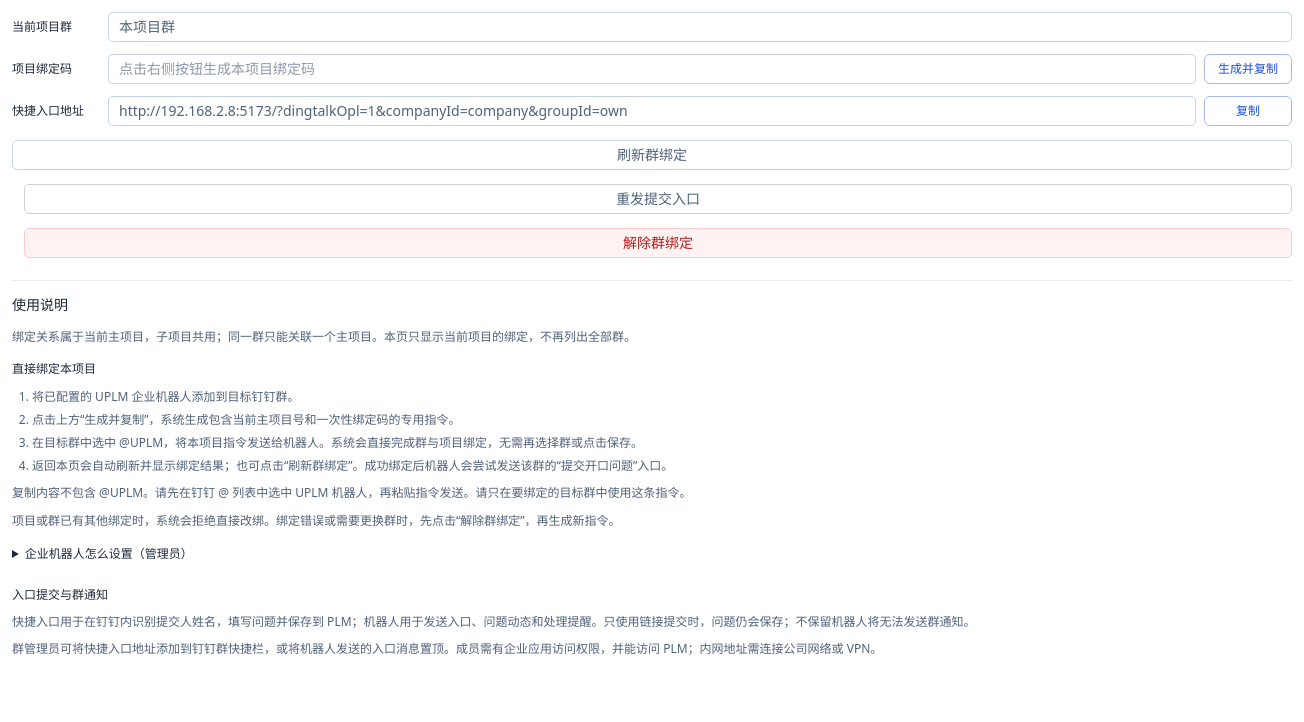
generates and copies a project-scoped one-time command without saving a binding
Click the button with aria-label "生成并复制项目绑定码" at (1248, 69), box [1204, 54, 1292, 84]
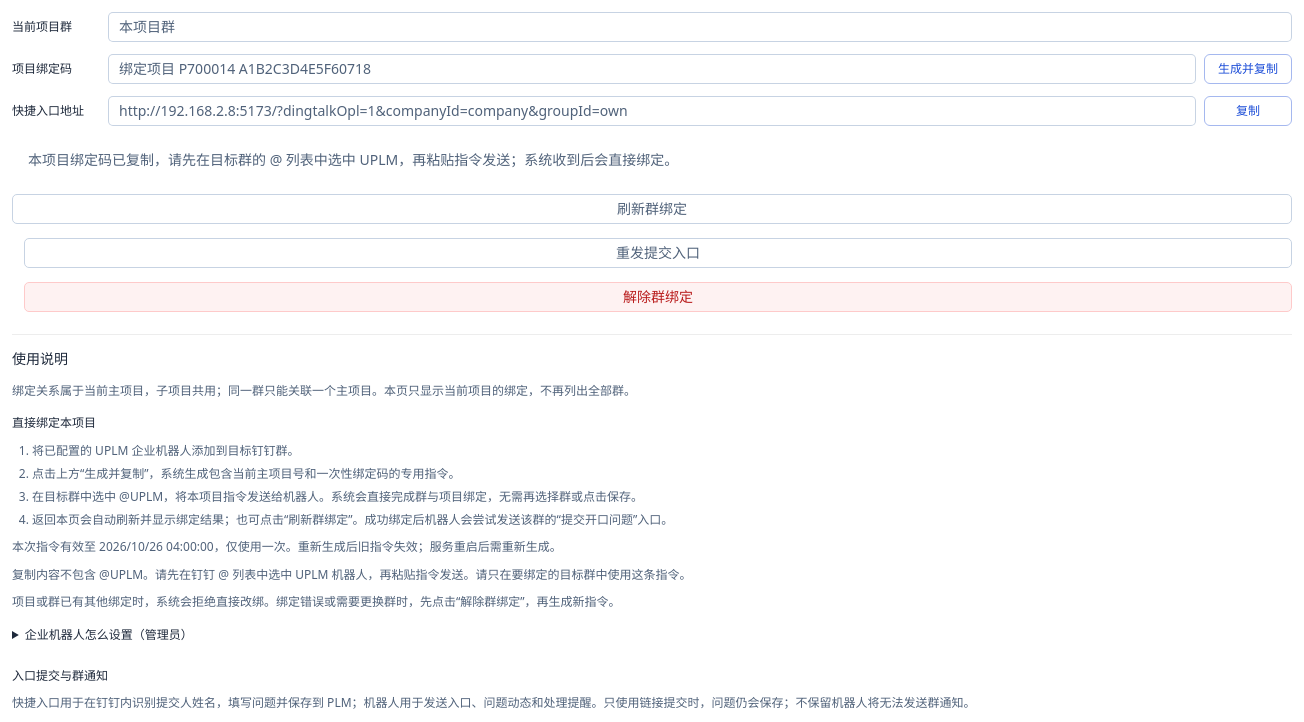
Expected: the field named "项目绑定码" holds "绑定项目 P700014 A1B2C3D4E5F60718", [119, 55, 1185, 83]
Expected: the text "本项目绑定码已复制" is shown, [28, 150, 678, 169]
Expected: the text "重新生成后旧指令失效" is shown, [12, 538, 562, 555]
